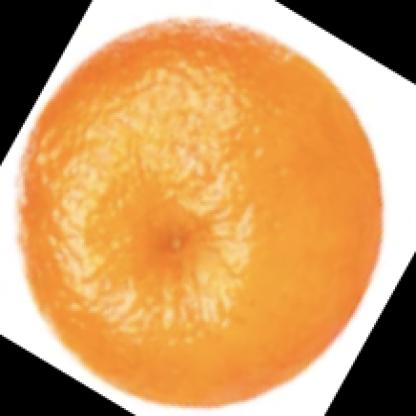fresh: (18, 22, 382, 402)
